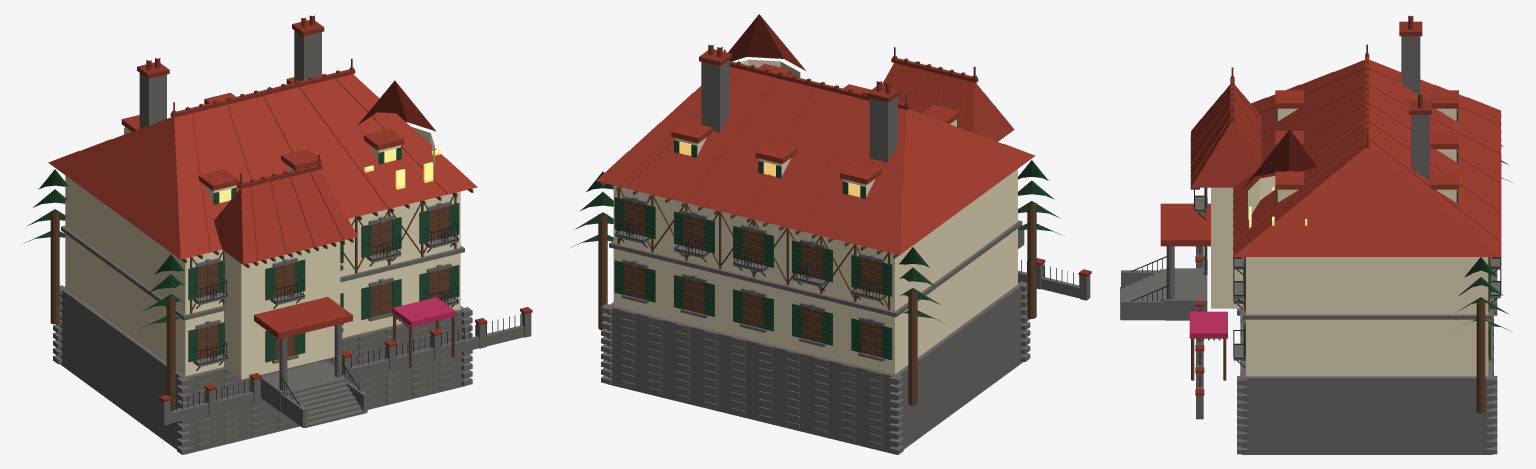
Rendered from fv_ll_07_ana_mandara_villa_22_savoy_chalet.glb.
3 renders of one model, left to right at view 1: azimuth 30°, elevation 25°; view 2: azimuth 150°, elevation 25°; view 3: azimuth 270°, elevation 25°, orthographic. The views are drawn at different scales.
Visible parts, largest first — view 1: marseille_corrugated_roof_tiles, granite_foundation_and_stairs, stucco_facade_and_dormers, colombage_timber_and_eaves, pine_green_louvered_shutters, ridge_cresting_and_chimneys, wrought_iron_balconies_3d, pine_trees_and_garden_hedges, bougainvillea_pergola_clusters, warm_night_windows_ffb86c; view 2: marseille_corrugated_roof_tiles, granite_foundation_and_stairs, stucco_facade_and_dormers, colombage_timber_and_eaves, pine_green_louvered_shutters, ridge_cresting_and_chimneys, pine_trees_and_garden_hedges, wrought_iron_balconies_3d; view 3: marseille_corrugated_roof_tiles, stucco_facade_and_dormers, granite_foundation_and_stairs, colombage_timber_and_eaves, ridge_cresting_and_chimneys, bougainvillea_pergola_clusters, wrought_iron_balconies_3d, pine_trees_and_garden_hedges, pine_green_louvered_shutters.
Part boxes in pixels (box(x1,y1,x2,y2)): marseille_corrugated_roof_tiles: box(48, 74, 477, 338); granite_foundation_and_stairs: box(53, 30, 531, 454); stucco_facade_and_dormers: box(65, 126, 460, 379); colombage_timber_and_eaves: box(50, 188, 473, 409); pine_green_louvered_shutters: box(124, 127, 459, 362); ridge_cresting_and_chimneys: box(137, 15, 532, 402); wrought_iron_balconies_3d: box(171, 222, 520, 411); pine_trees_and_garden_hedges: box(23, 169, 184, 328); bougainvillea_pergola_clusters: box(392, 297, 455, 327); warm_night_windows_ffb86c: box(218, 148, 441, 203); marseille_corrugated_roof_tiles: box(596, 14, 1035, 254); granite_foundation_and_stairs: box(601, 60, 1090, 454); stucco_facade_and_dormers: box(613, 59, 1017, 374); colombage_timber_and_eaves: box(598, 182, 1036, 405); pine_green_louvered_shutters: box(614, 120, 957, 360); ridge_cresting_and_chimneys: box(699, 45, 1091, 276); pine_trees_and_garden_hedges: box(570, 160, 1064, 322); wrought_iron_balconies_3d: box(615, 216, 1079, 305); marseille_corrugated_roof_tiles: box(1160, 60, 1501, 256); stucco_facade_and_dormers: box(1211, 108, 1488, 376); granite_foundation_and_stairs: box(1120, 36, 1500, 454); colombage_timber_and_eaves: box(1190, 114, 1501, 413); ridge_cresting_and_chimneys: box(1195, 15, 1431, 395); bougainvillea_pergola_clusters: box(1189, 311, 1227, 338); wrought_iron_balconies_3d: box(1130, 157, 1501, 388); pine_trees_and_garden_hedges: box(1455, 144, 1511, 331); pine_green_louvered_shutters: box(1204, 108, 1490, 360).
Size of the model in its own units: 24.42 by 20.13 by 22.58.
